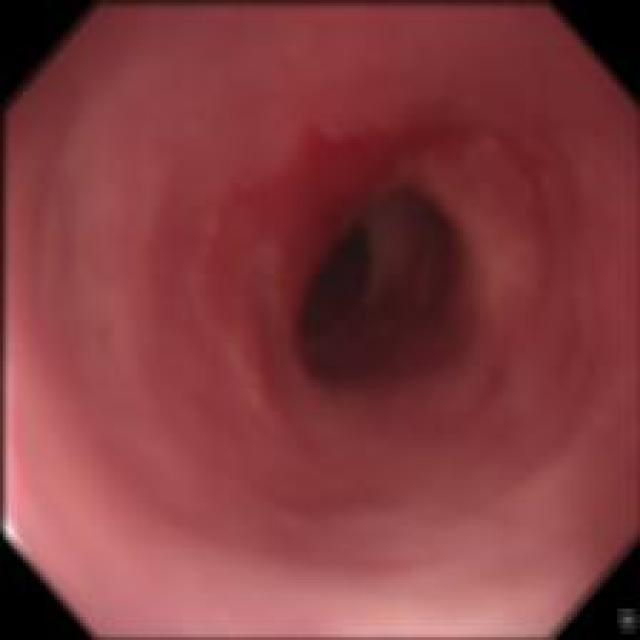blur: (0, 1, 638, 635)
contrast: (305, 220, 442, 370)
